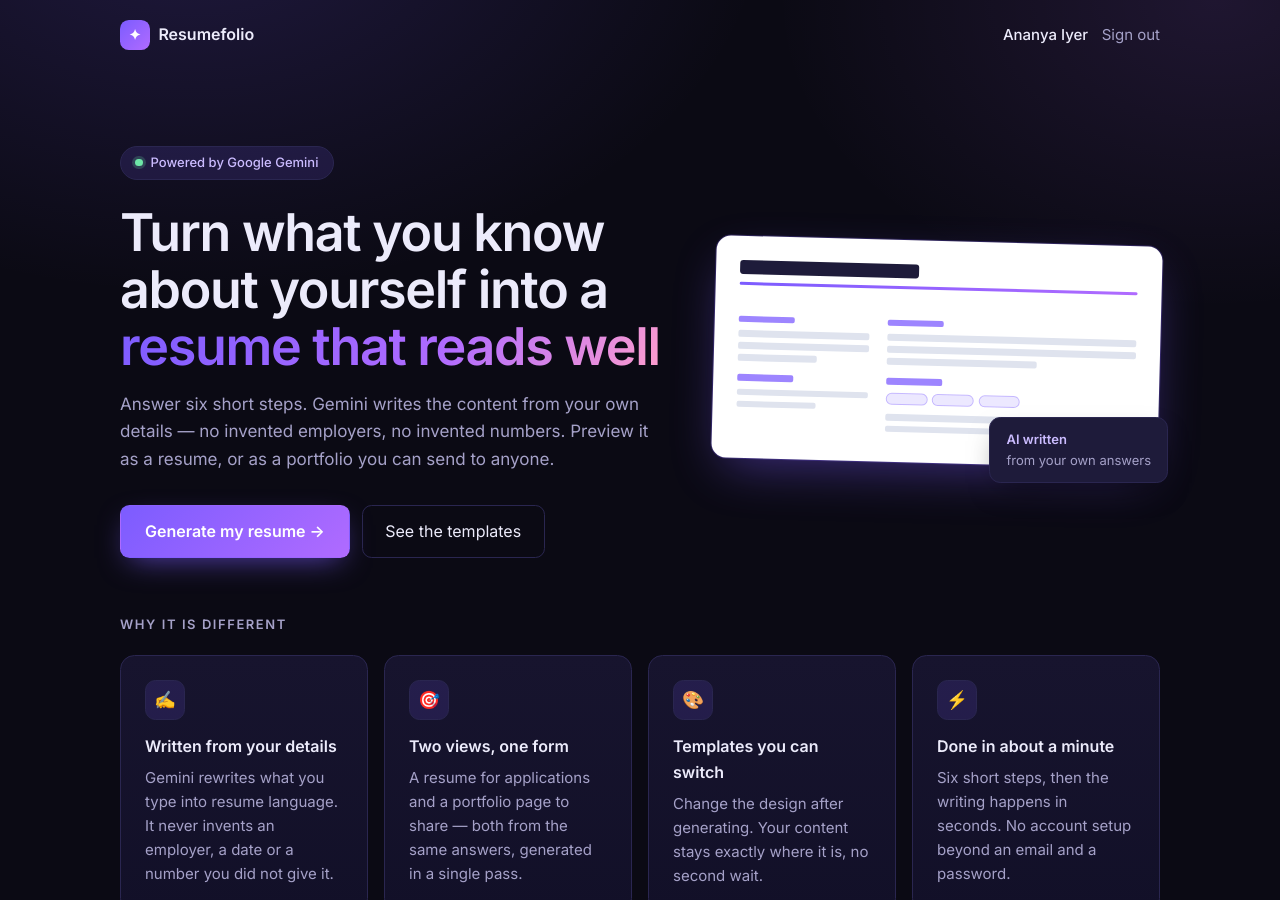
Test: gating the flow behind authentication › pre-fills the form for a user who signed in on a previous visit
This screenshot has width=1280, height=900.
Click the button "Generate my resume →".
click(235, 531)  # box [120,505,350,558]
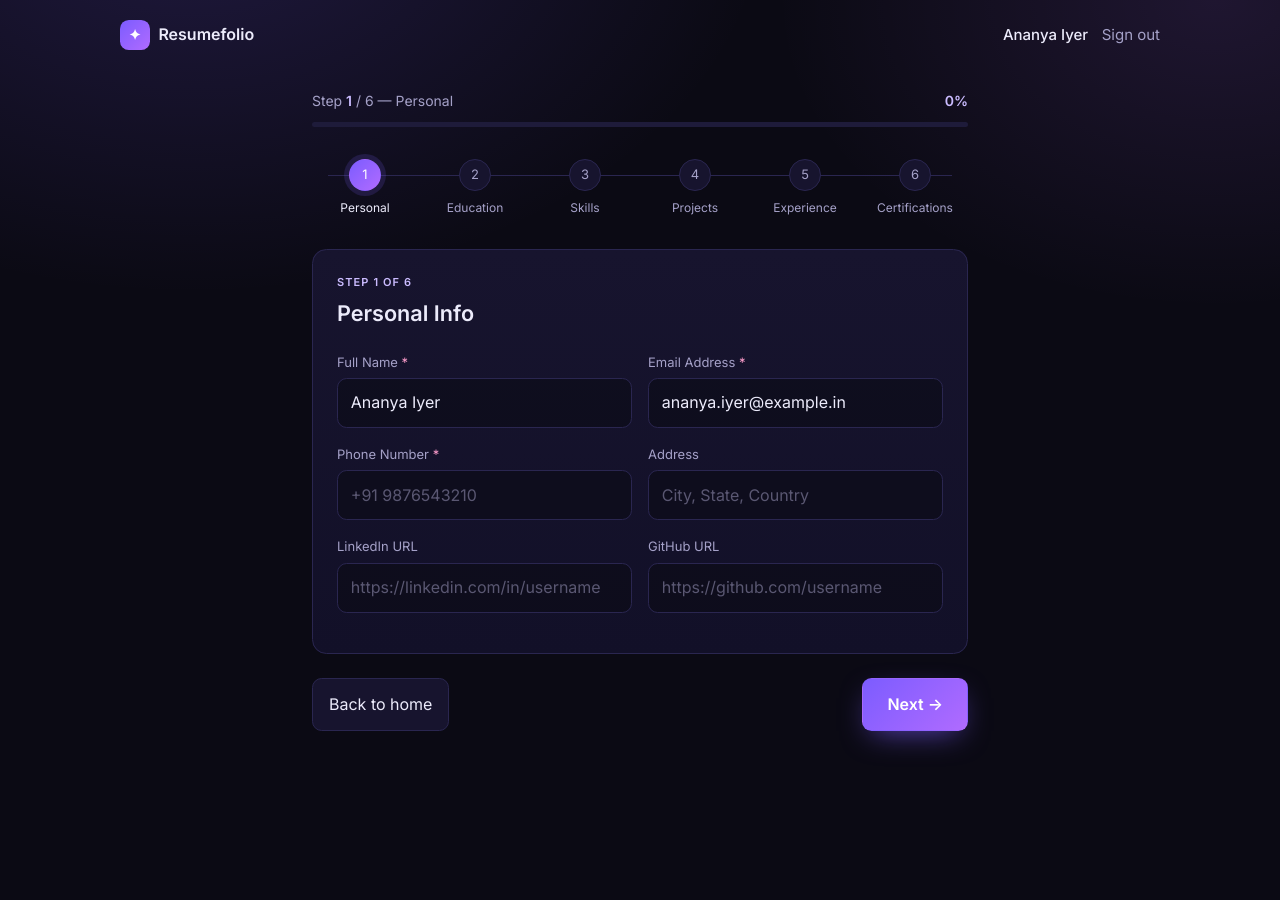
expect the field labelled "Full Name *" holds "Ananya Iyer": met, box [337,378,632,428]
expect the field labelled "Email Address *" holds "ananya.iyer@example.in": met, box [648,378,943,428]
